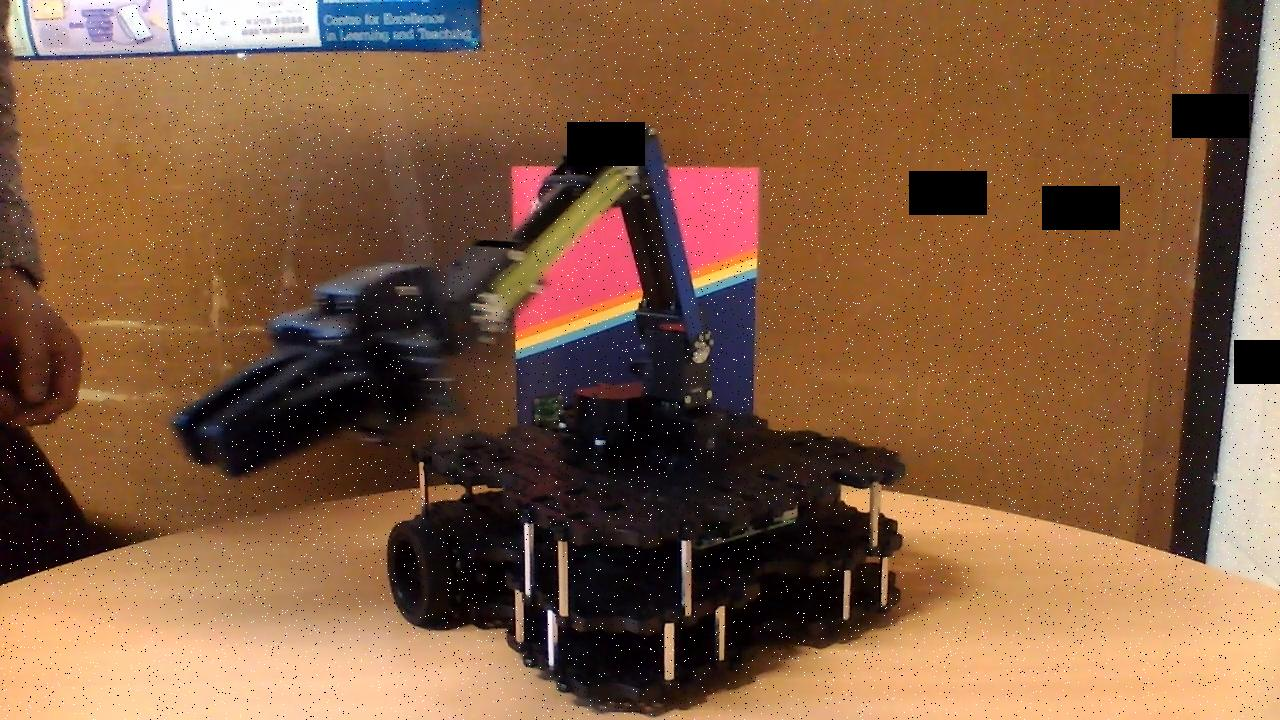Arm: (621, 125, 717, 369)
Hand: (170, 260, 471, 481)
Wrist: (470, 132, 641, 349)
base: (384, 376, 912, 702)
